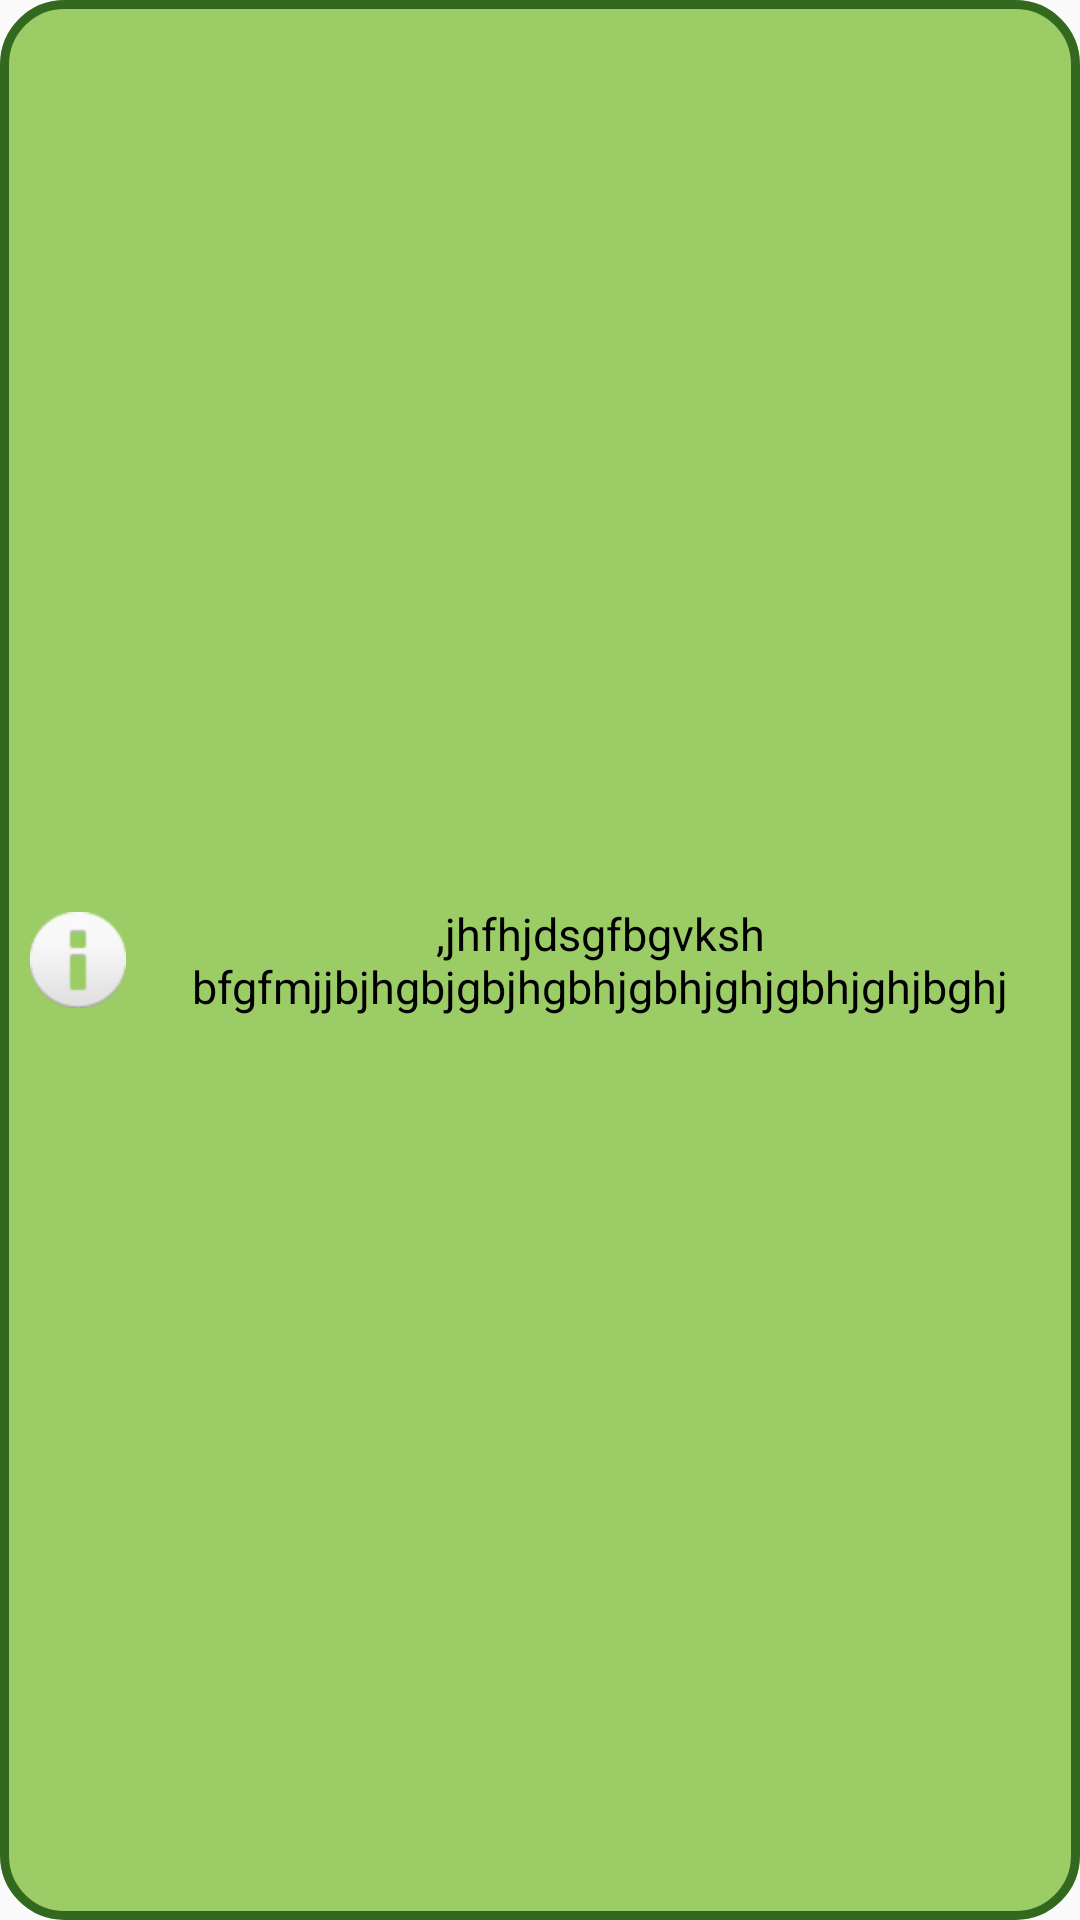

Screen size 1080px x 1920px. Icon name, then its box in pixels as bbox=(x1, y1, x2, y2):
info: bbox=(30, 912, 126, 1008)
